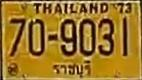0: (78, 18, 95, 55), (28, 18, 44, 55)
1: (122, 16, 127, 56)
3: (97, 17, 113, 55)
7: (9, 16, 25, 56)
9: (60, 18, 76, 55)
RBR: (51, 59, 92, 78)
